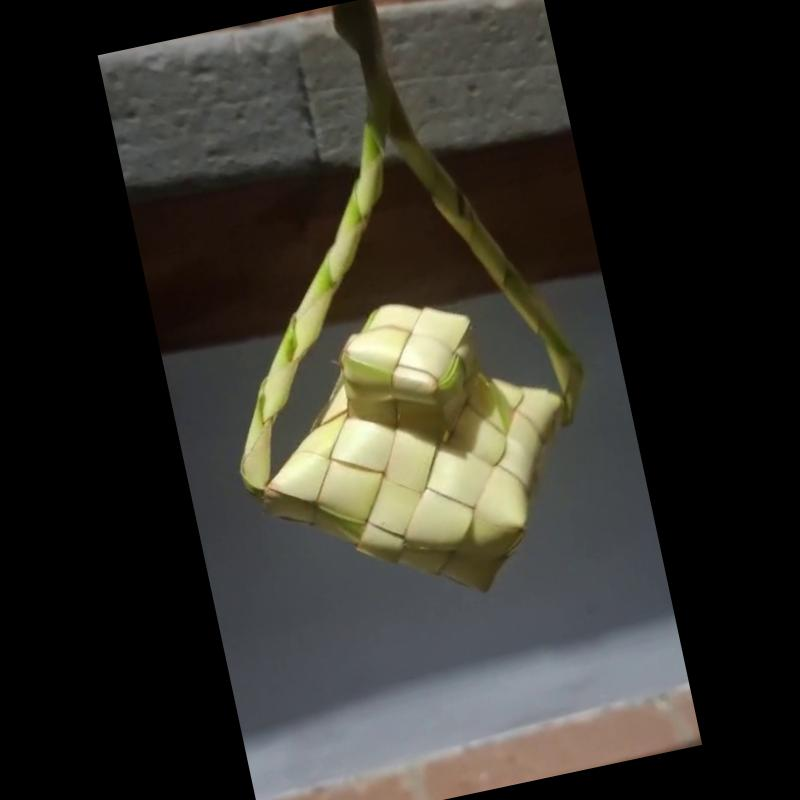Tipat Gong: (238, 0, 585, 599)
